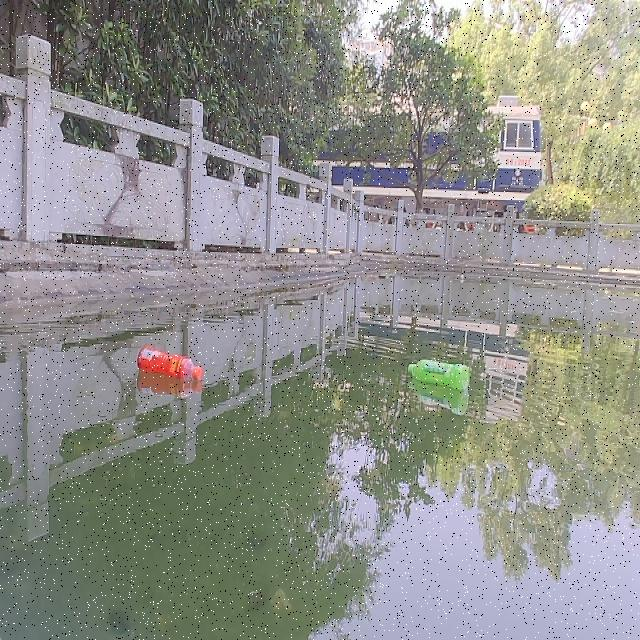Bottle: (136, 346, 203, 382), (406, 357, 469, 388)
